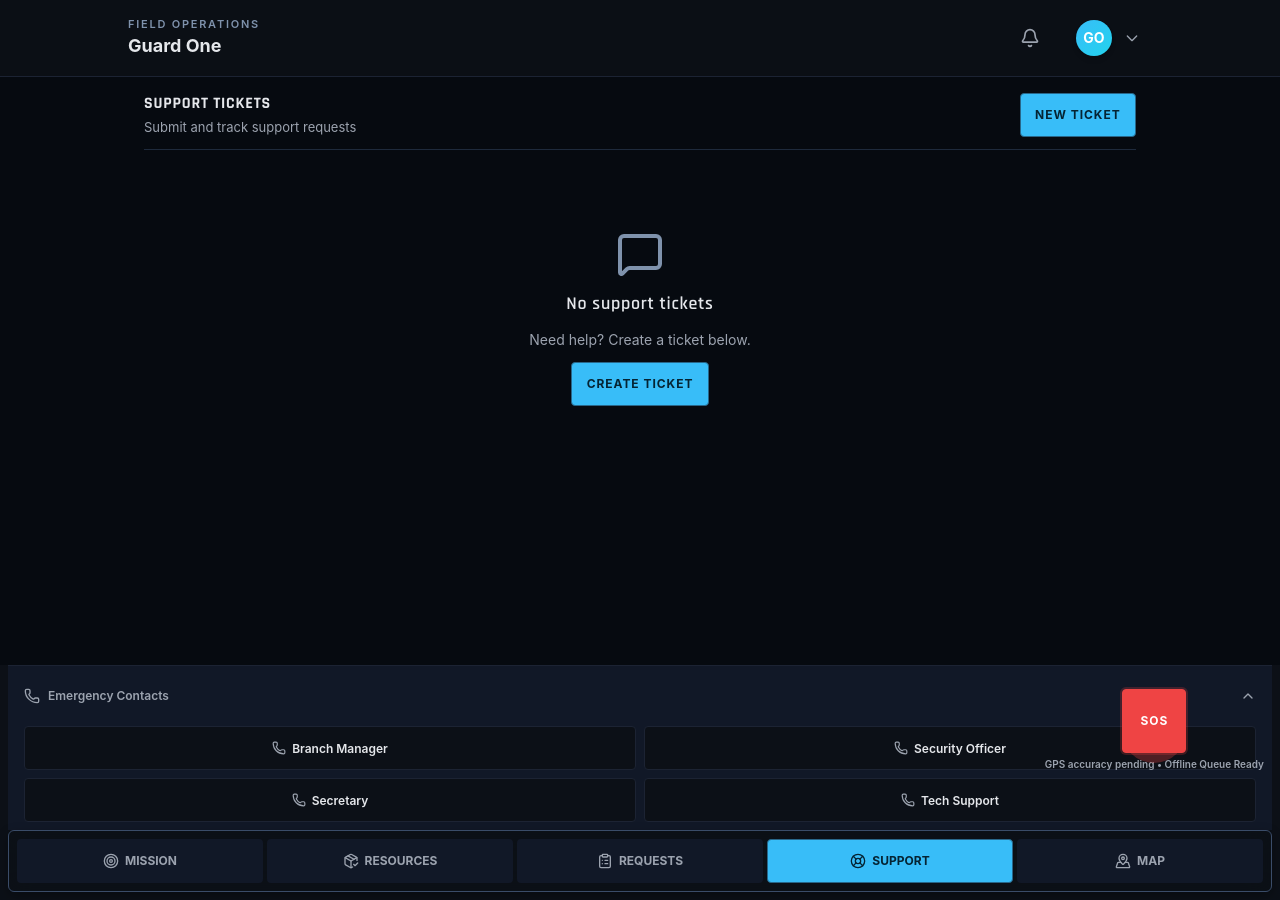
Test: guard dashboard redesign tranche › shows support form errors instead of failing silently
Click the button "New Ticket" at (1078, 115), box [1020,93,1136,137]
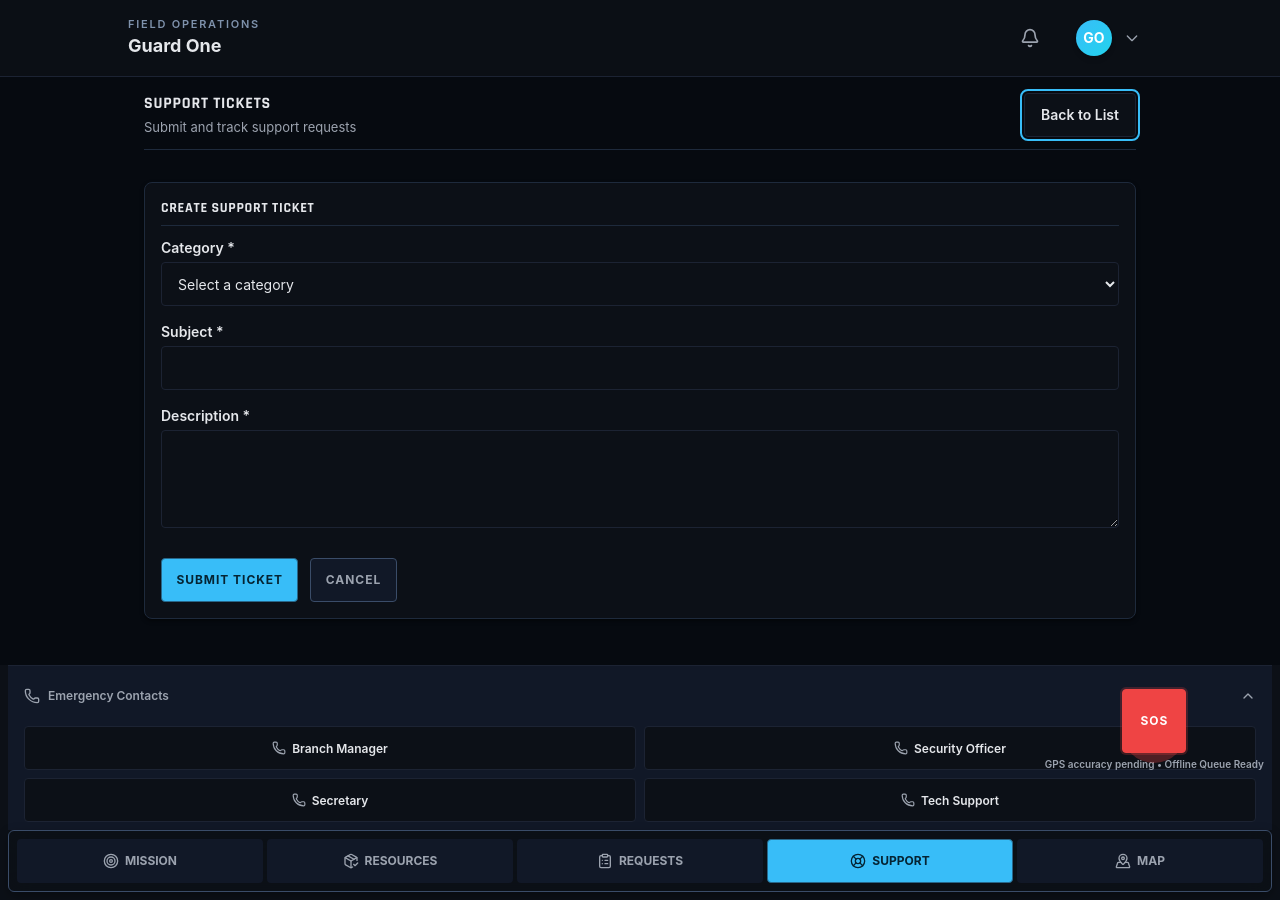
Select "Equipment" in the dropdown labelled "Category *" at (640, 284), box [161,262,1119,306]
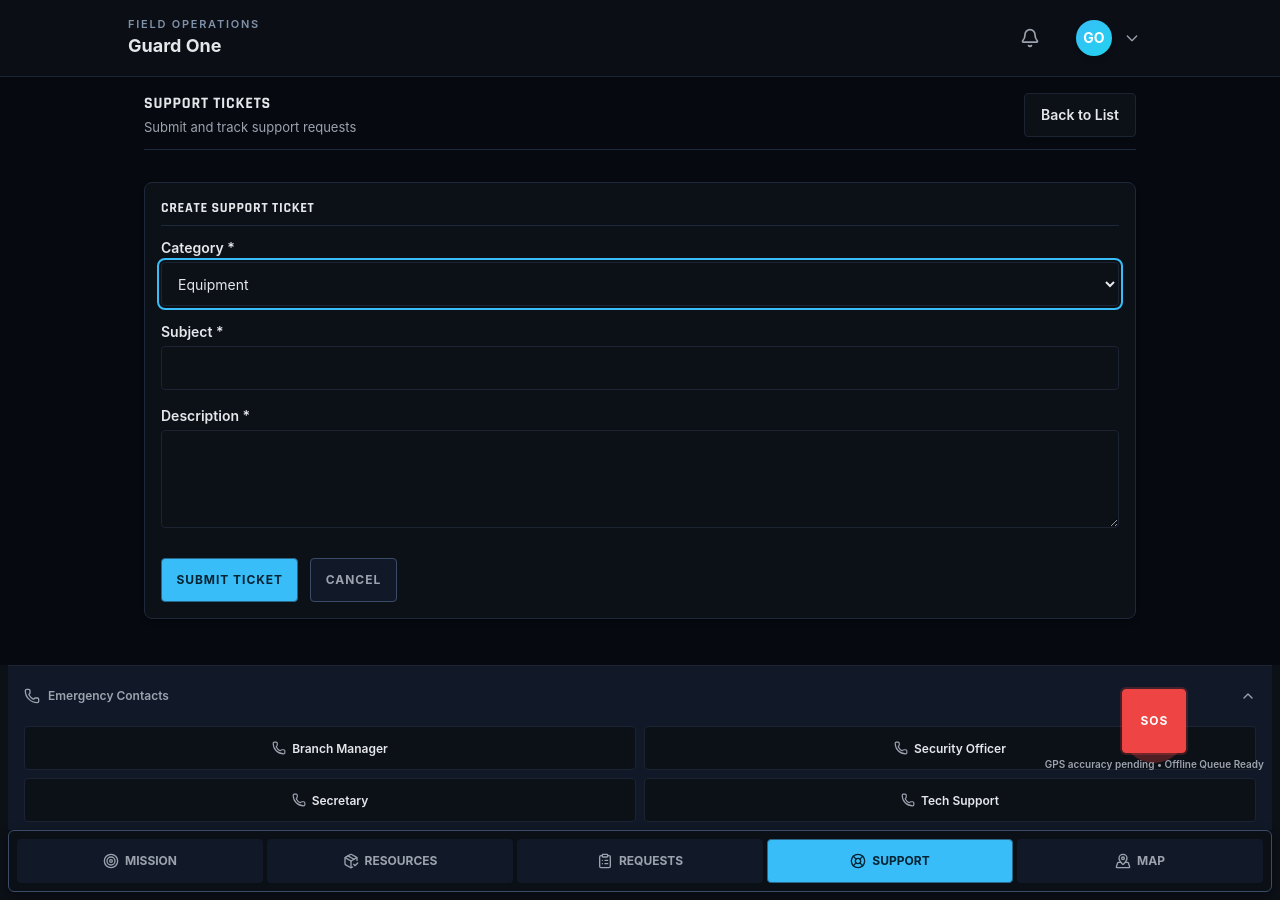
Type "Need support" into the field labelled "Subject *" at (640, 368), box [161,346,1119,390]
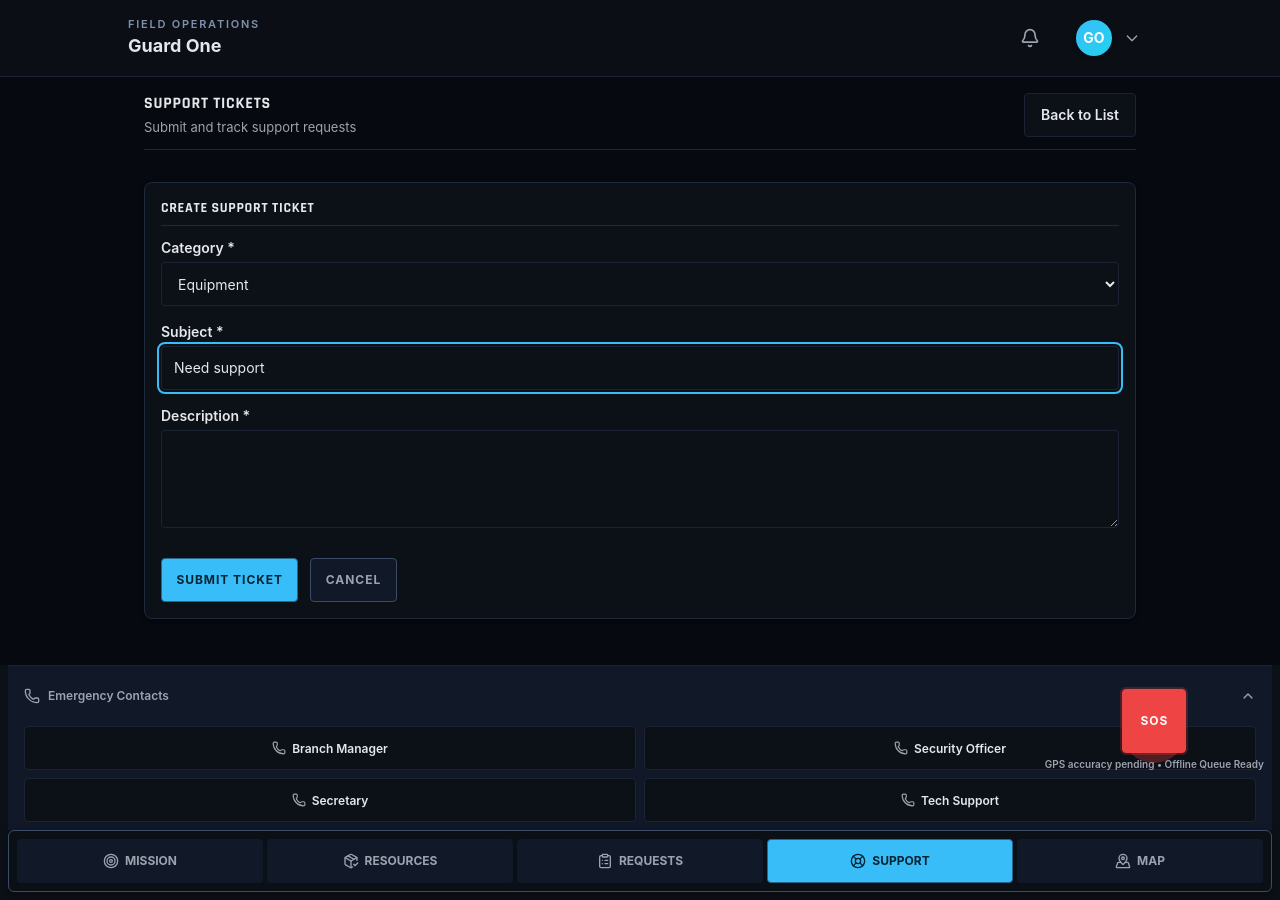
Type "Something failed during my shift." into the text box labelled "Description *" at (640, 479), box [161,430,1119,528]
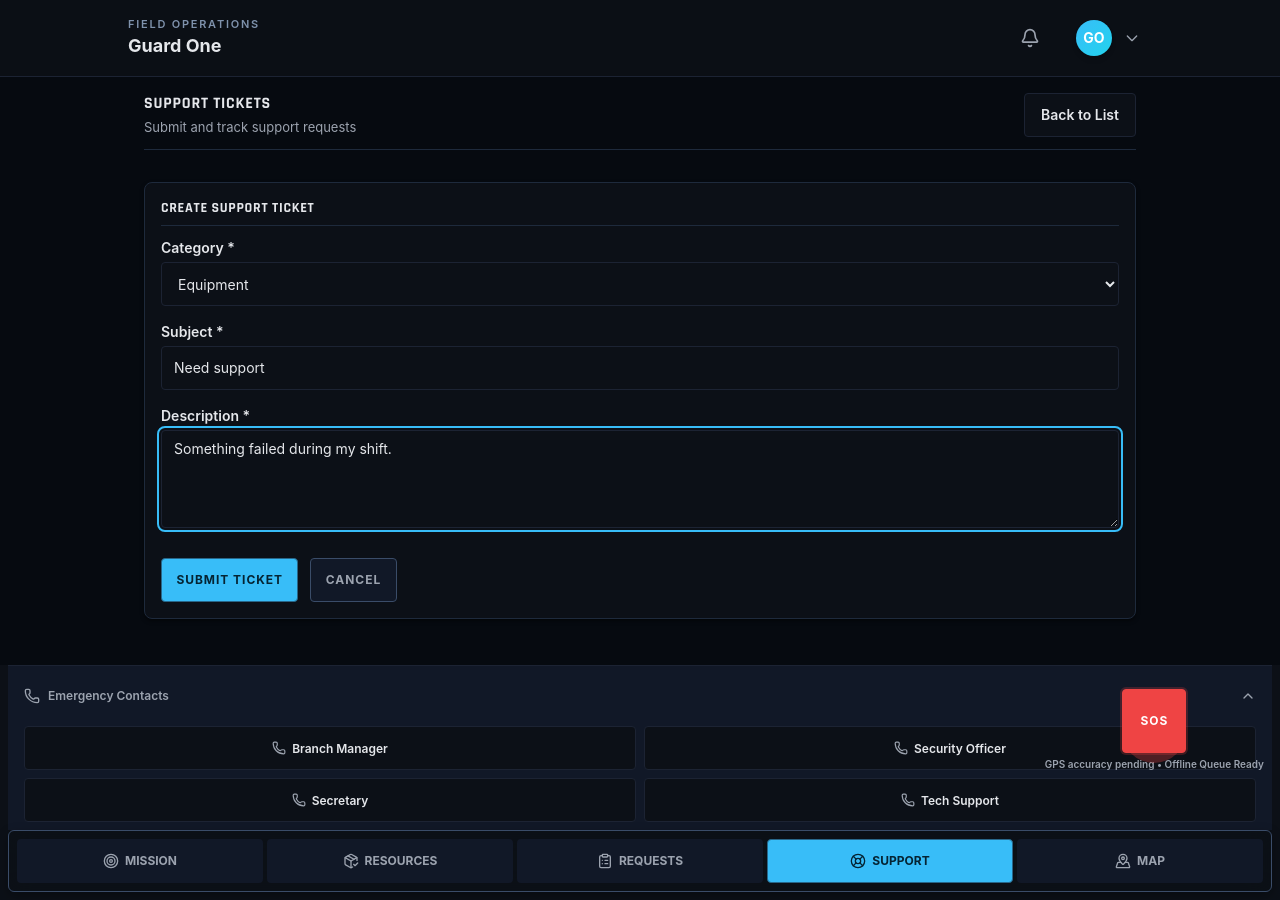
Click the button "Submit Ticket" at (230, 580), box [161,558,298,602]
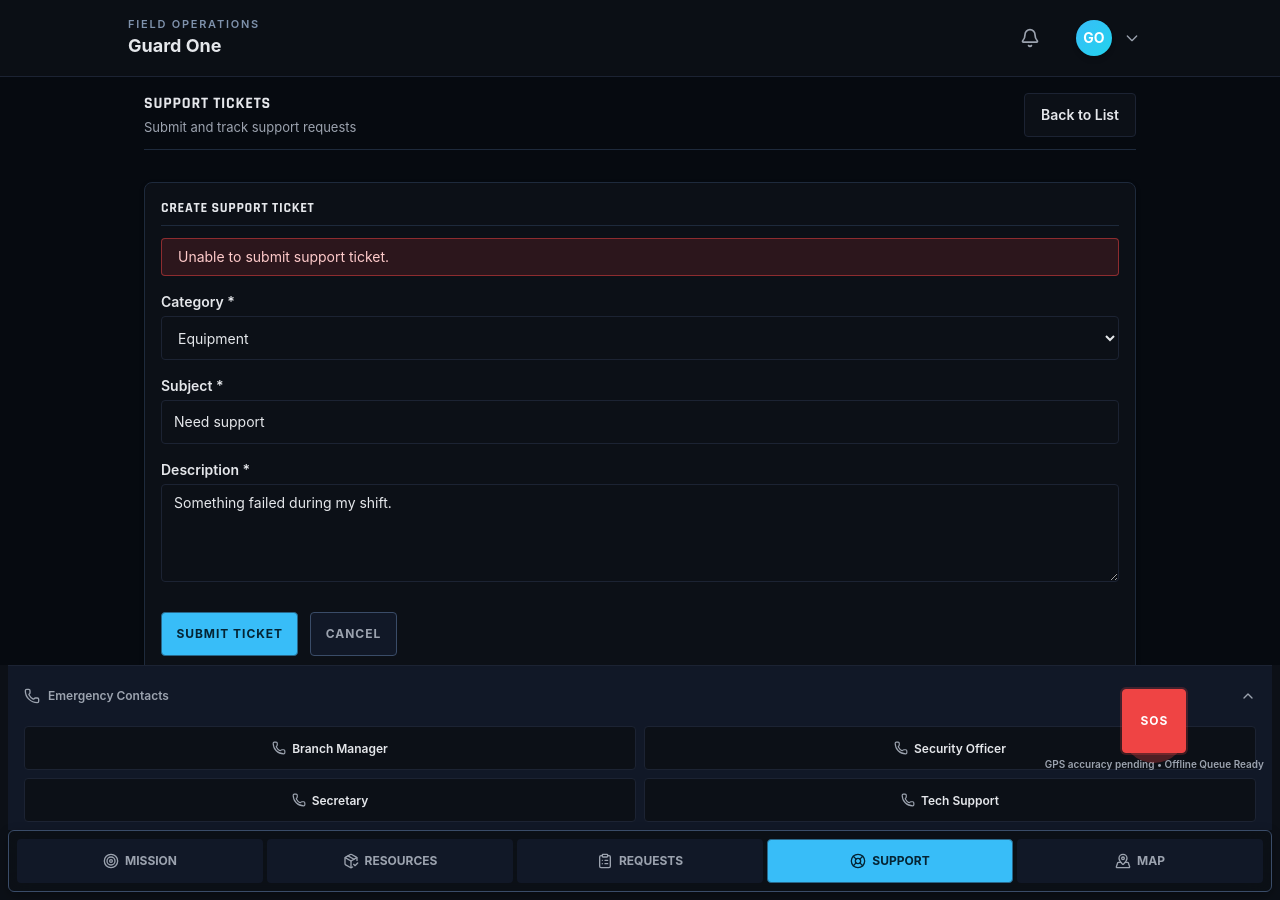
Check: the text "Unable to submit support ticket." is shown, box [161,238,1119,276]
